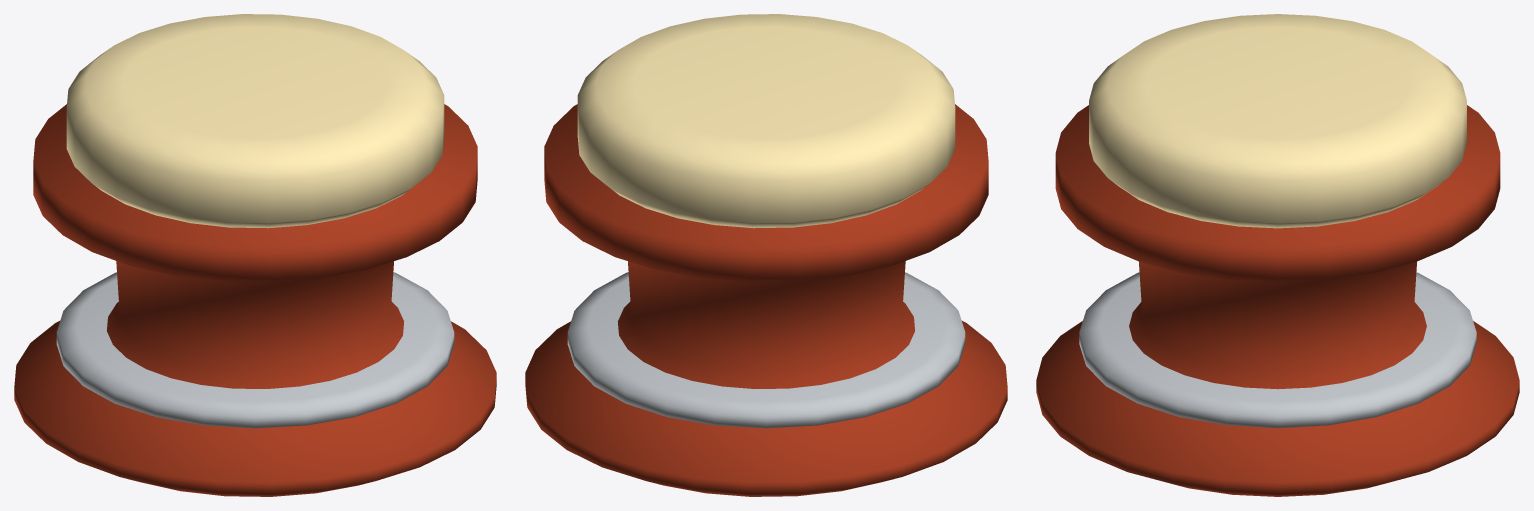
Rendered from Pinball_PopBumper.glb.
3 views of the same model, side by side, from view 1: azimuth 30°, elevation 25°; view 2: azimuth 150°, elevation 25°; view 3: azimuth 270°, elevation 25° (orthographic).
Visible parts, largest first — view 1: Body, Cap, Deco_StrikeRing; view 2: Body, Cap, Deco_StrikeRing; view 3: Body, Cap, Deco_StrikeRing.
Part boxes in pixels (box(x1,y1,x2,y2)): Body: box(14, 104, 496, 496); Cap: box(66, 14, 444, 228); Deco_StrikeRing: box(56, 272, 454, 428); Body: box(525, 104, 1007, 496); Cap: box(577, 14, 955, 228); Deco_StrikeRing: box(567, 272, 965, 428); Body: box(1036, 105, 1519, 496); Cap: box(1089, 14, 1466, 228); Deco_StrikeRing: box(1079, 272, 1476, 427).
Size of the model in its own units: 0.073 by 0.0565 by 0.073.
